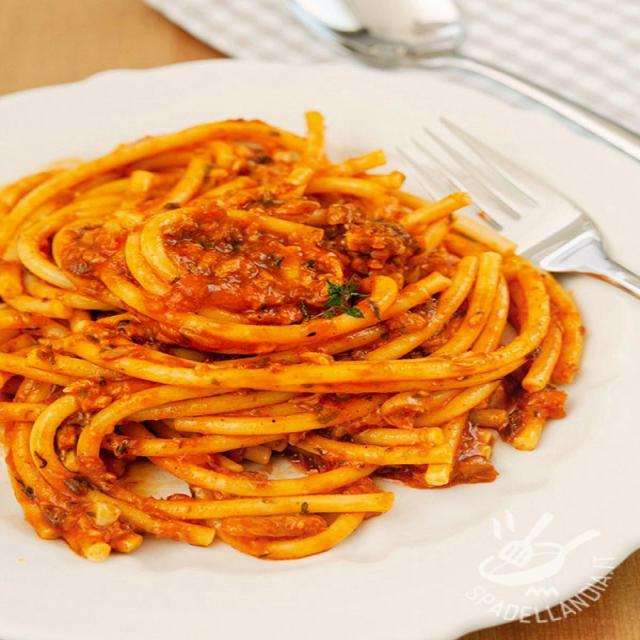Pasta al ragu: (2, 114, 582, 554)
